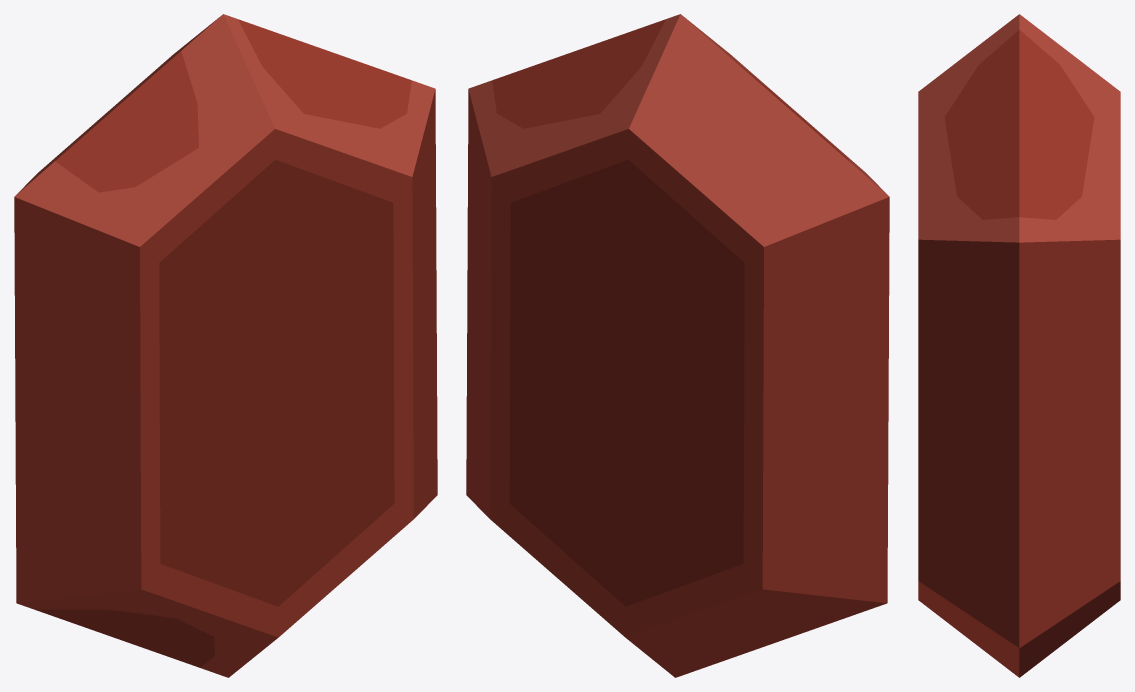
Rendered from SM_Prop_Treasure_Gem_02.fbx.
3 views of the same model, side by side, from view 1: azimuth 30°, elevation 25°; view 2: azimuth 150°, elevation 25°; view 3: azimuth 270°, elevation 25° (orthographic).
Visible parts, largest first — view 1: SM_Prop_Treasure_Gem_02; view 2: SM_Prop_Treasure_Gem_02; view 3: SM_Prop_Treasure_Gem_02.
Part boxes in pixels (bbox=[...]): SM_Prop_Treasure_Gem_02: bbox=[14, 14, 437, 677]; SM_Prop_Treasure_Gem_02: bbox=[466, 14, 889, 677]; SM_Prop_Treasure_Gem_02: bbox=[918, 14, 1120, 677].
Size of the model in its own units: 8.11 by 12.17 by 3.38.
